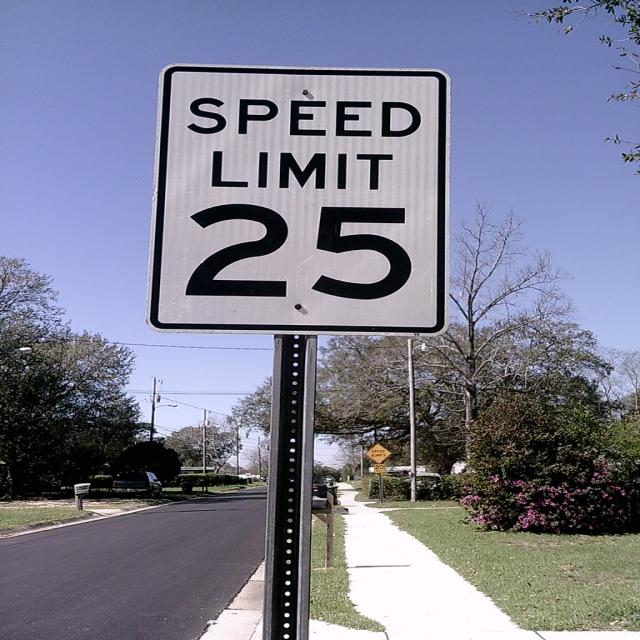speedLimit25: (145, 56, 444, 350)
